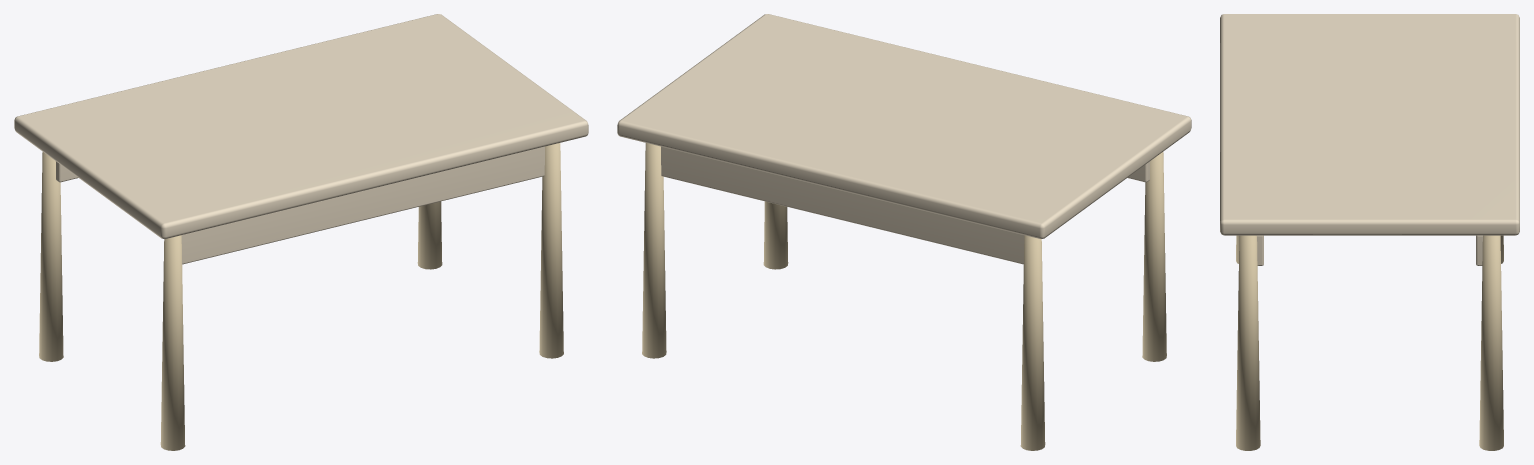
The model's file is table.glb.
The picture shows the model from 3 angles, left to right: view 1: azimuth 30°, elevation 25°; view 2: azimuth 150°, elevation 25°; view 3: azimuth 270°, elevation 25°; orthographic projection.
Visible parts, largest first — view 1: top; view 2: top; view 3: top.
Part boxes in pixels (box(x1,y1,x2,y2)): top: box(14, 14, 588, 450); top: box(617, 14, 1191, 450); top: box(1220, 14, 1519, 450).
Bounding box in the file's own units: 1.4 × 0.74 × 0.85.
